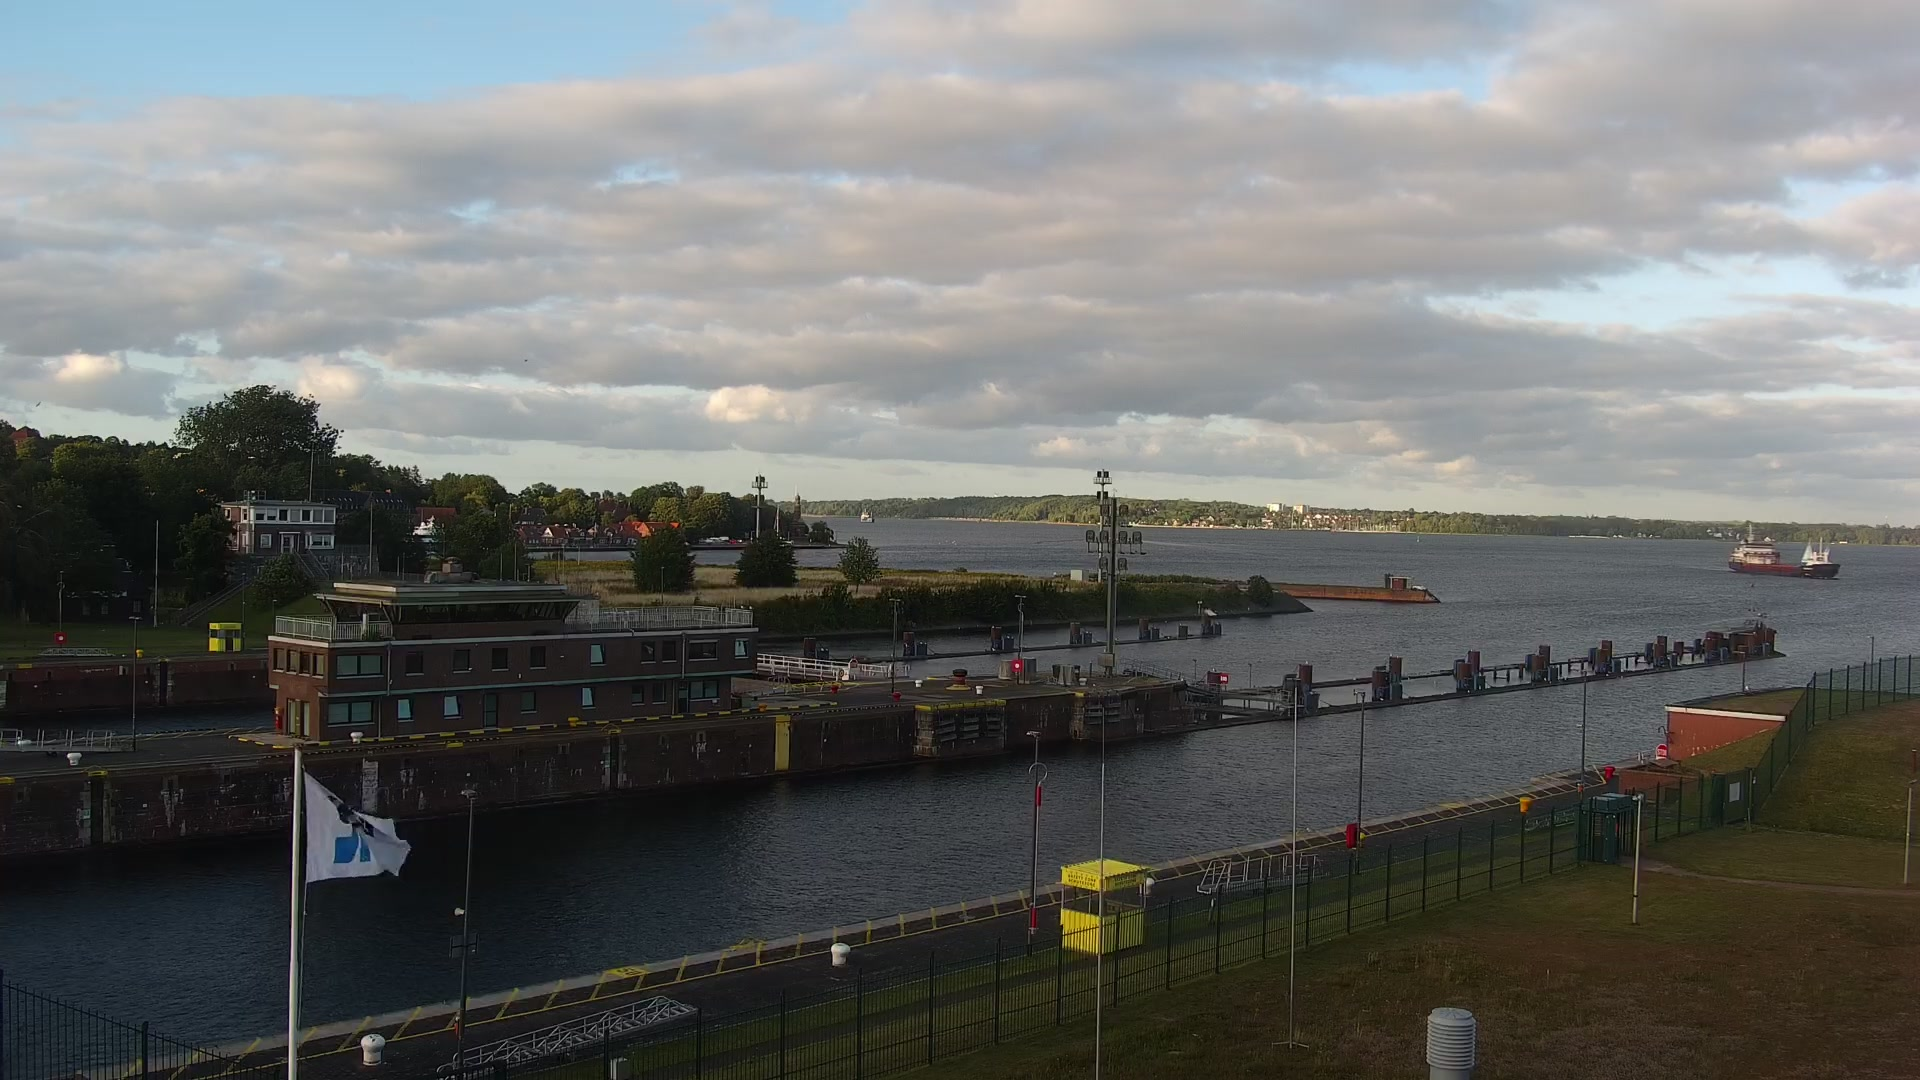sea: (1727, 521, 1841, 579), (411, 514, 443, 535), (858, 506, 873, 524)
